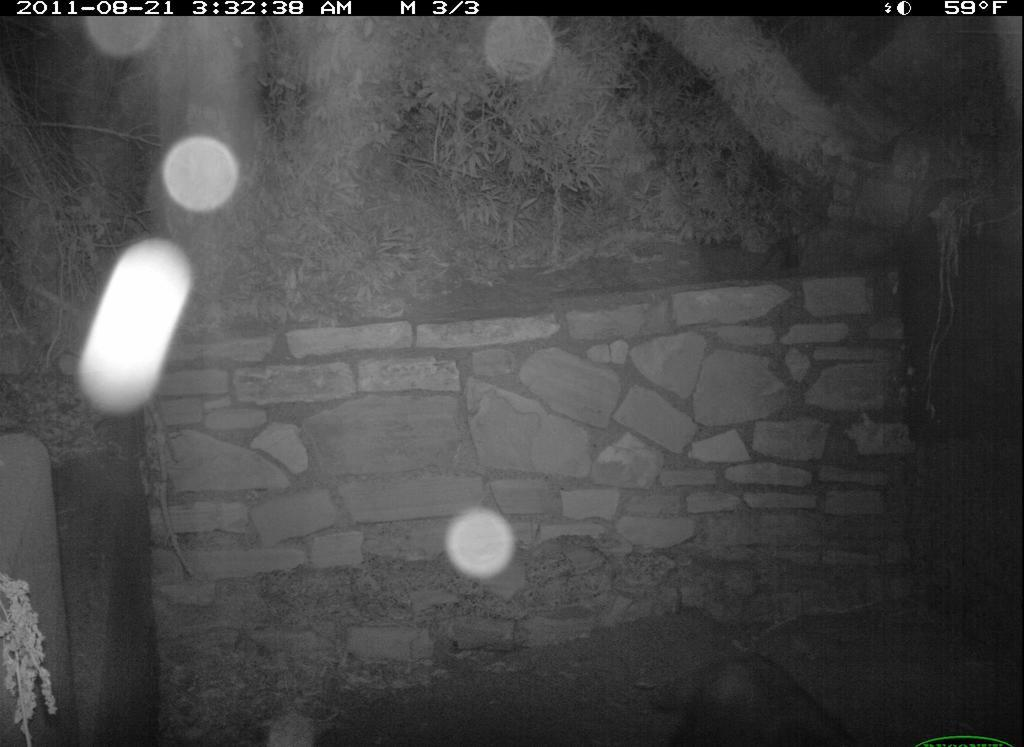raccoon: (646, 641, 862, 745)
